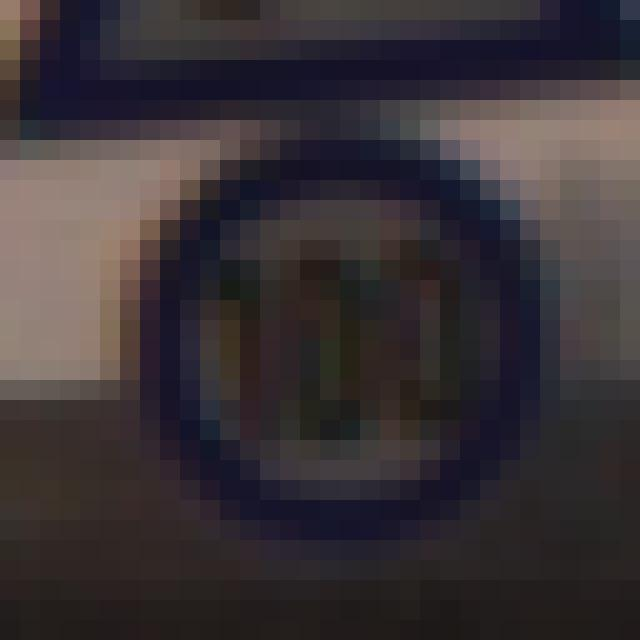SPEED LIMIT 100: (124, 143, 546, 520)
